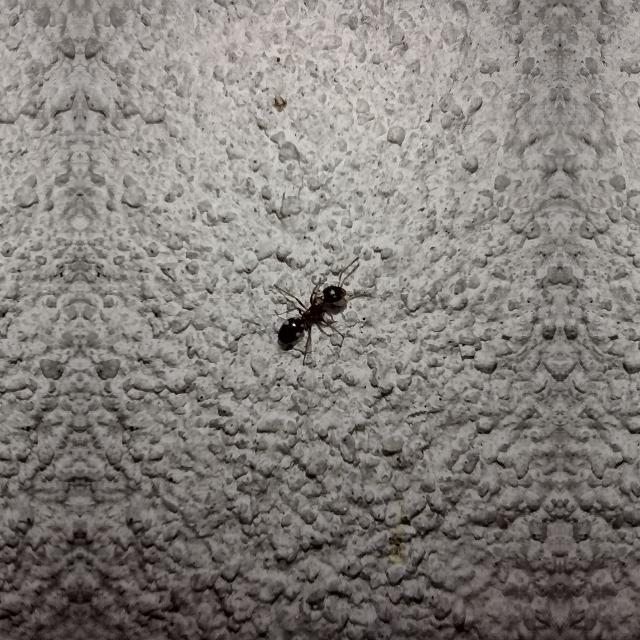Dolichoderus: (266, 258, 360, 366)
